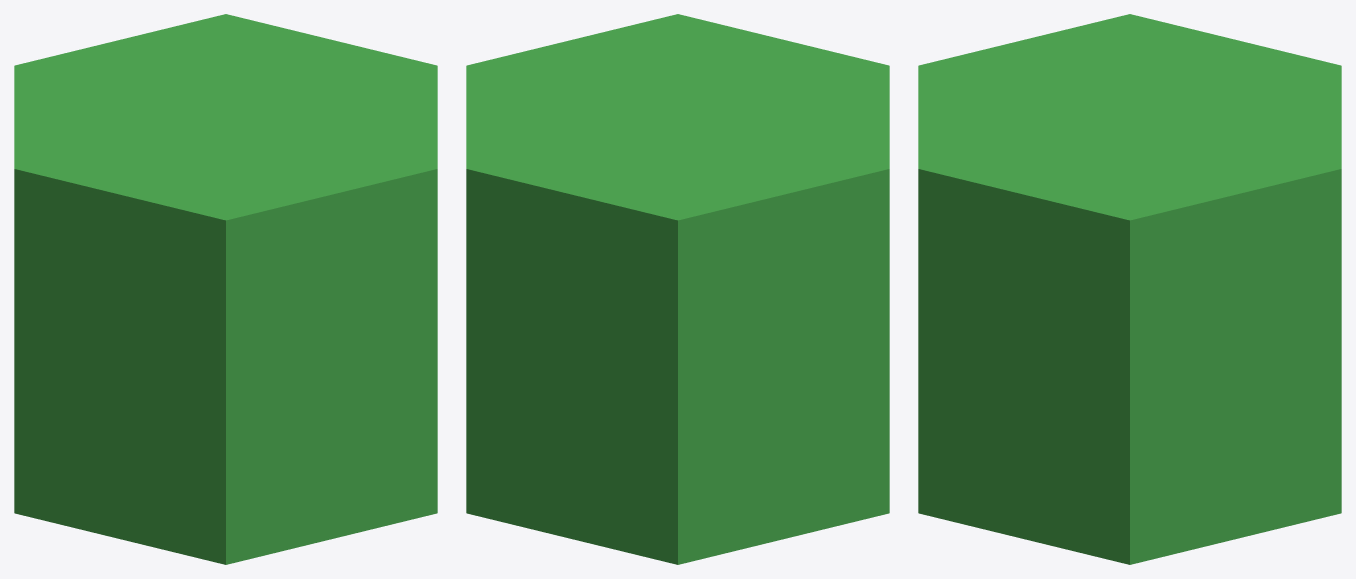
The model's file is hexprism.glb.
The picture shows the model from 3 angles, left to right: view 1: azimuth 30°, elevation 25°; view 2: azimuth 150°, elevation 25°; view 3: azimuth 270°, elevation 25°; orthographic projection.
Parts seen in each view (by area): view 1: hexprism; view 2: hexprism; view 3: hexprism.
Boxes of the visible parts, x1=… form: hexprism: x1=14, y1=14, x2=437, y2=564; hexprism: x1=466, y1=14, x2=889, y2=564; hexprism: x1=918, y1=14, x2=1341, y2=564.
Size of the model in its own units: 0.9 by 0.7 by 0.7794.
1 material, 1 textured.
